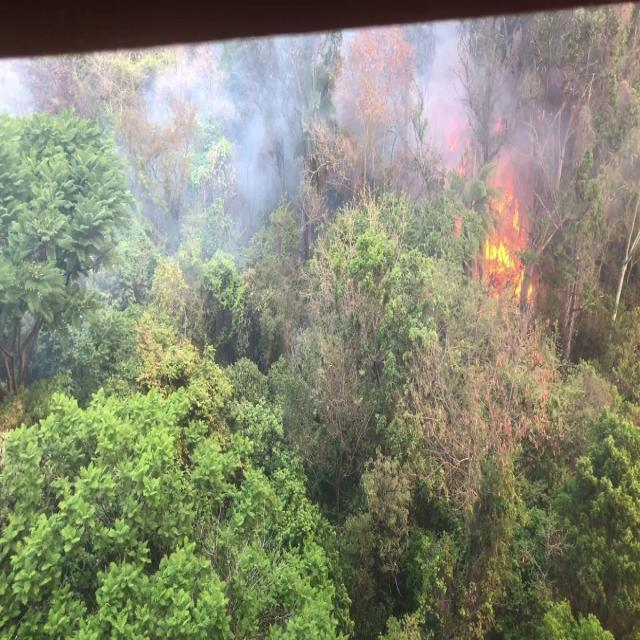Fire: (482, 180, 532, 310)
Smoke: (123, 18, 566, 254)
